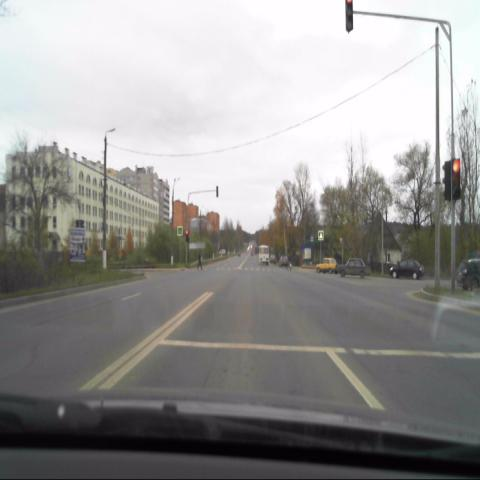5_19_1: (318, 229, 324, 241)
